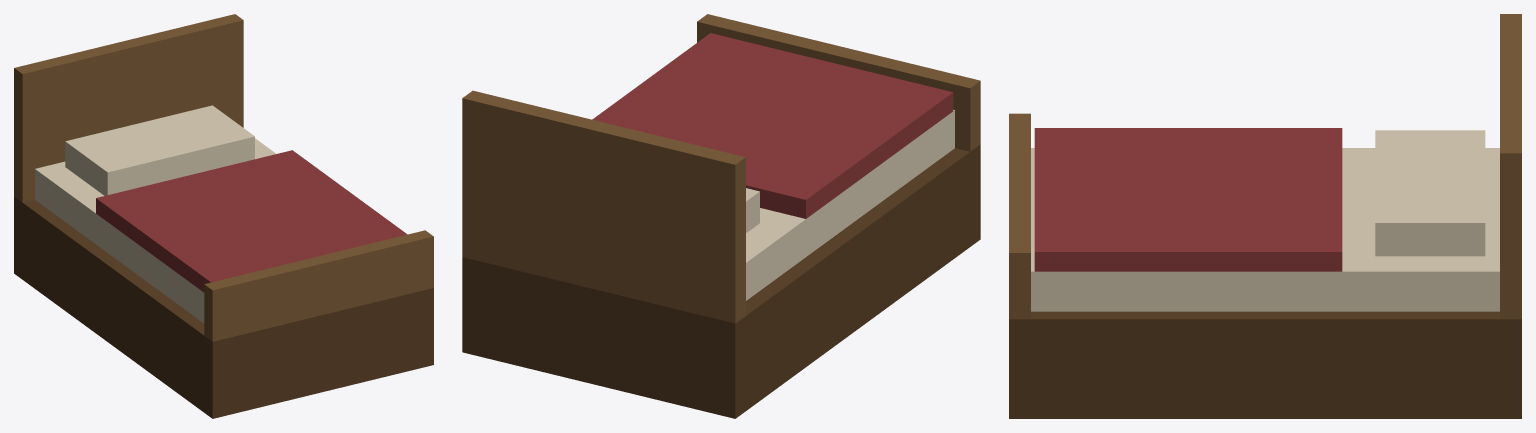
File: bed.glb
The picture shows the model from 3 angles, left to right: view 1: azimuth 30°, elevation 25°; view 2: azimuth 150°, elevation 25°; view 3: azimuth 270°, elevation 25°; orthographic projection. The views are drawn at different scales.
Visible parts, largest first — view 1: bed_frame, bed_blanket, bed_headboard, bed_footboard, bed_pillow, bed_mattress; view 2: bed_frame, bed_headboard, bed_blanket, bed_mattress, bed_footboard, bed_pillow; view 3: bed_frame, bed_blanket, bed_mattress, bed_pillow, bed_headboard, bed_footboard.
Boxes of the visible parts, x1,y1,x2,y2 form: bed_frame: (14,196,433,418); bed_blanket: (96,150,407,292); bed_headboard: (14,14,243,202); bed_footboard: (204,230,433,341); bed_pillow: (65,105,254,195); bed_mattress: (35,138,275,323); bed_frame: (462,144,980,418); bed_headboard: (462,90,745,323); bed_blanket: (592,33,953,218); bed_mattress: (746,109,954,300); bed_footboard: (697,14,980,151); bed_pillow: (746,188,759,232); bed_frame: (1009,311,1521,418); bed_blanket: (1034,128,1342,271); bed_mattress: (1031,148,1499,311); bed_pillow: (1375,130,1485,256); bed_headboard: (1500,14,1521,319); bed_footboard: (1009,113,1030,319).
Size of the model in its own units: 0.9 by 0.8 by 1.4.
